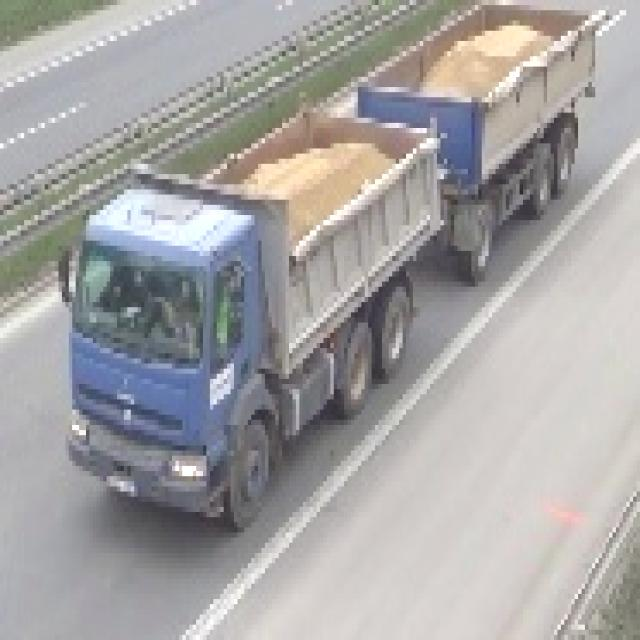truck: (56, 1, 593, 528)
